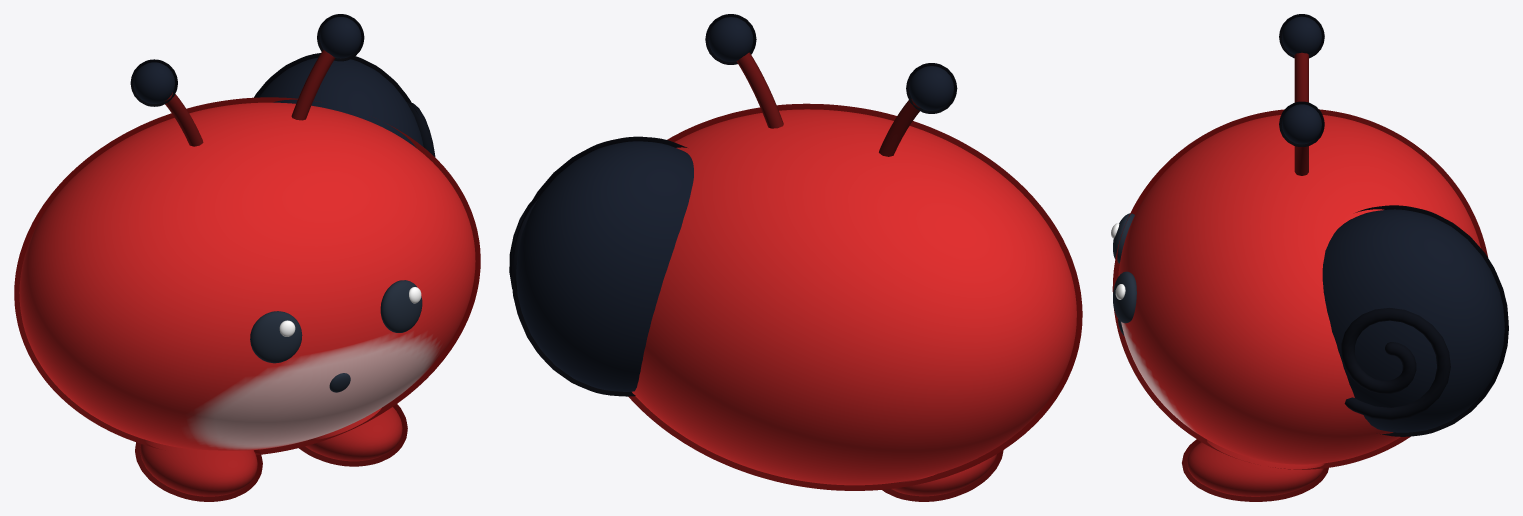
The model's file is button.glb.
The picture shows the model from 3 angles, left to right: view 1: azimuth 30°, elevation 25°; view 2: azimuth 150°, elevation 25°; view 3: azimuth 270°, elevation 25°; orthographic projection. The views are drawn at different scales.
Parts seen in each view (by area): view 1: body, shell, foot, foot.001, eye, antenna_tip, antenna_tip.001, eye.001, antenna.001, antenna, shell_line; view 2: body, shell, foot, antenna_tip, antenna_tip.001, antenna.001, antenna; view 3: body, shell, foot.001, shell_line, antenna_tip.001, antenna_tip, eye.001, antenna, eye.
Boxes of the visible parts, bbox=[...] form: body: bbox=[14, 97, 480, 455]; shell: bbox=[254, 53, 423, 148]; foot: bbox=[135, 439, 262, 501]; foot.001: bbox=[299, 404, 407, 466]; eye: bbox=[250, 311, 302, 363]; antenna_tip: bbox=[130, 59, 177, 106]; antenna_tip.001: bbox=[317, 14, 364, 61]; eye.001: bbox=[380, 280, 422, 332]; antenna.001: bbox=[291, 49, 335, 120]; antenna: bbox=[164, 92, 203, 146]; shell_line: bbox=[407, 102, 435, 156]; body: bbox=[628, 103, 1082, 490]; shell: bbox=[511, 136, 693, 396]; foot: bbox=[882, 450, 1003, 501]; antenna_tip: bbox=[906, 63, 957, 113]; antenna_tip.001: bbox=[705, 14, 756, 64]; antenna.001: bbox=[736, 52, 783, 128]; antenna: bbox=[879, 99, 920, 156]; body: bbox=[1112, 109, 1488, 469]; shell: bbox=[1322, 205, 1508, 436]; foot.001: bbox=[1182, 439, 1328, 501]; shell_line: bbox=[1341, 308, 1450, 420]; antenna_tip.001: bbox=[1279, 101, 1324, 146]; antenna_tip: bbox=[1279, 14, 1324, 58]; eye.001: bbox=[1113, 271, 1136, 323]; antenna: bbox=[1294, 52, 1308, 102]; eye: bbox=[1113, 213, 1134, 263].
Bounding box in the file's own units: 2.13 × 1.92 × 1.73.
